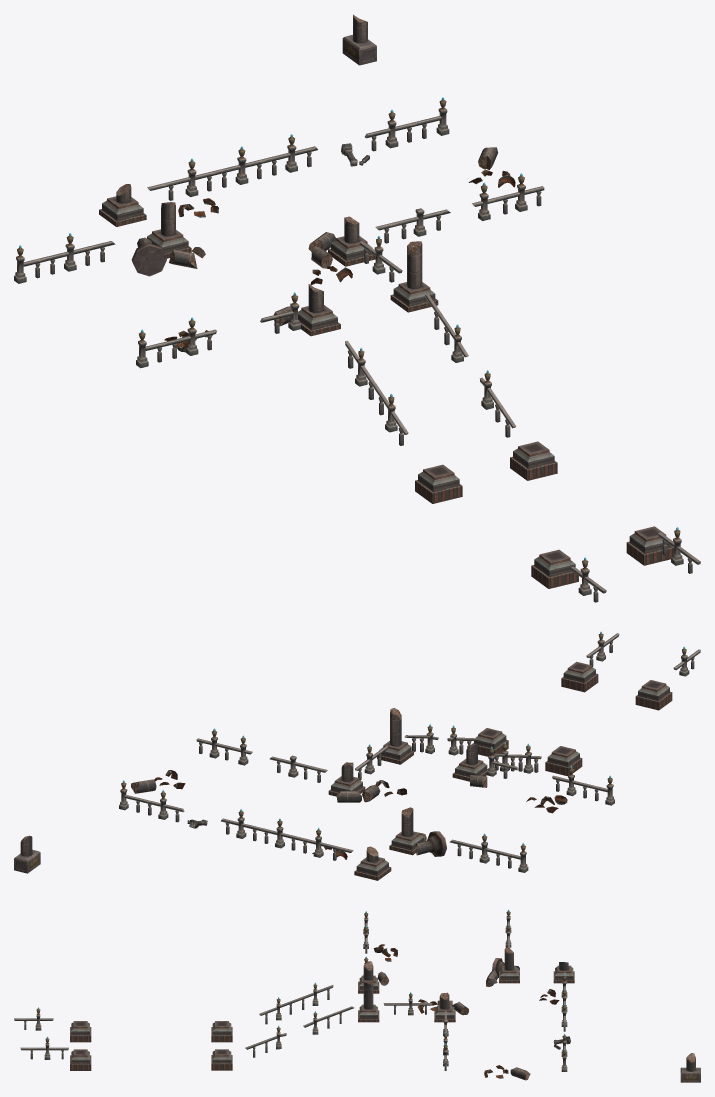
3 views of the same model, one above another, from view 1: azimuth 30°, elevation 25°; view 2: azimuth 150°, elevation 25°; view 3: azimuth 270°, elevation 25° (orthographic). The views are drawn at different scales.
Visible parts, largest first — view 1: pozhuzi, zw_dentai005, zw_dentai006, zw_dentai008, zw_dentai007, Cylinder100, Box187, zw_dentai002, zw_dentai003, zw_dentai004; view 2: pozhuzi, zw_dentai007, zw_dentai008, zw_dentai006, zw_dentai005, Box187, zw_dentai002, zw_dentai003, zw_dentai001, zw_dentai004, Cylinder066, zw_dentai (+6 smaller); view 3: pozhuzi, zw_dentai006, zw_dentai005, zw_dentai007, zw_dentai008, Cylinder100, zw_dentai003, zw_dentai001, zw_dentai, zw_dentai002, Cylinder104, Cylinder066.
Boxes of the visible parts, x1,y1,x2,y2 form: pozhuzi: [131, 147, 497, 326]; zw_dentai005: [510, 441, 557, 480]; zw_dentai006: [415, 464, 462, 503]; zw_dentai008: [531, 549, 578, 588]; zw_dentai007: [626, 526, 673, 565]; Cylinder100: [161, 202, 205, 268]; Box187: [385, 97, 449, 148]; zw_dentai002: [99, 196, 146, 226]; zw_dentai003: [390, 282, 438, 312]; zw_dentai004: [298, 305, 340, 336]; pozhuzi: [131, 774, 487, 856]; zw_dentai007: [561, 661, 598, 692]; zw_dentai008: [635, 680, 672, 710]; zw_dentai006: [545, 746, 582, 776]; zw_dentai005: [472, 728, 508, 756]; Box187: [119, 780, 168, 819]; zw_dentai002: [354, 857, 391, 880]; zw_dentai003: [377, 741, 413, 764]; zw_dentai001: [389, 831, 423, 855]; zw_dentai004: [452, 759, 487, 781]; Cylinder066: [14, 849, 40, 873]; zw_dentai: [328, 776, 365, 796]; pozhuzi: [378, 958, 530, 1080]; zw_dentai006: [211, 1021, 232, 1042]; zw_dentai005: [211, 1049, 232, 1070]; zw_dentai007: [70, 1049, 91, 1070]; zw_dentai008: [70, 1021, 91, 1042]; Cylinder100: [486, 947, 513, 986]; zw_dentai003: [358, 1004, 379, 1022]; zw_dentai001: [499, 965, 519, 983]; zw_dentai: [434, 1004, 455, 1022]; zw_dentai002: [553, 965, 574, 983]; Cylinder104: [363, 982, 373, 1009]; Cylinder066: [680, 1067, 700, 1082].
Bounding box in the file's own units: 2894 × 771 × 5633.
